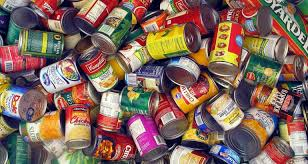can: (1, 1, 308, 164)
